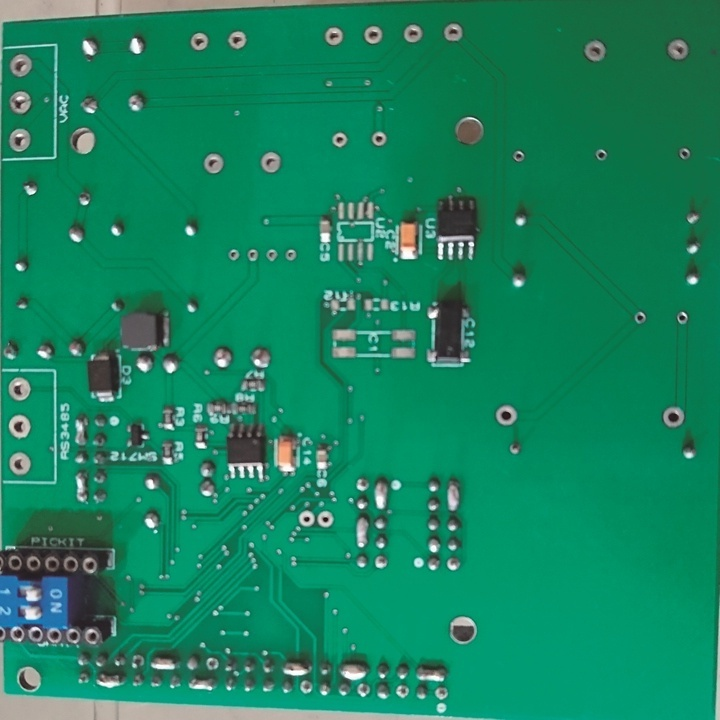F: (8, 89, 37, 117), (7, 52, 35, 80), (5, 375, 32, 403), (7, 449, 33, 478), (583, 38, 610, 65), (201, 149, 227, 176), (7, 127, 34, 153), (7, 413, 31, 442), (493, 403, 519, 429), (259, 148, 283, 175), (662, 405, 686, 429), (667, 38, 691, 62), (441, 20, 465, 43), (188, 30, 211, 53), (227, 29, 249, 51), (402, 21, 423, 44), (324, 26, 345, 48), (361, 25, 384, 45), (296, 509, 315, 529), (315, 509, 333, 530), (331, 130, 350, 149), (355, 681, 373, 700), (394, 682, 413, 699), (373, 553, 390, 571), (370, 129, 387, 146), (434, 685, 450, 703), (130, 652, 145, 670), (686, 209, 700, 228), (204, 655, 219, 672), (507, 440, 524, 455), (355, 476, 370, 492), (446, 555, 460, 572), (246, 246, 260, 263), (676, 308, 689, 326), (299, 680, 313, 696), (282, 247, 296, 263), (633, 311, 648, 325), (678, 147, 691, 161), (264, 247, 276, 262), (595, 149, 607, 162), (227, 249, 239, 262), (513, 151, 524, 164)
P: (415, 661, 449, 685), (281, 656, 313, 678), (93, 671, 128, 689), (339, 660, 369, 680), (186, 675, 219, 693), (150, 655, 181, 673), (354, 515, 370, 549), (73, 412, 88, 448), (74, 469, 89, 505), (446, 478, 461, 513), (374, 478, 388, 511)
